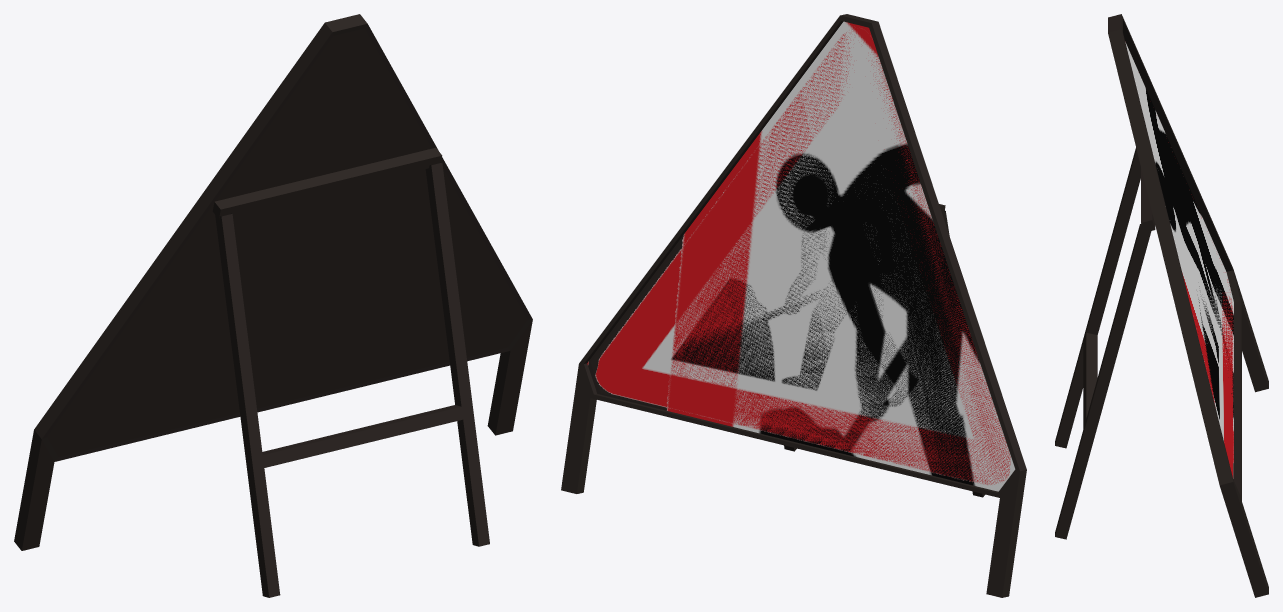
Rendered from RoadworksSign.fbx.
3 renders of one model, left to right at view 1: azimuth 30°, elevation 25°; view 2: azimuth 150°, elevation 25°; view 3: azimuth 270°, elevation 25°, orthographic. The views are drawn at different scales.
Parts seen in each view (by area): view 1: Circle; view 2: Circle; view 3: Circle.
Boxes of the visible parts, x1,y1,x2,y2 form: Circle: (14,14,532,597); Circle: (561,14,1026,597); Circle: (1055,14,1268,597).
Size of the model in its own units: 0.7923 by 0.8142 by 0.3356.
